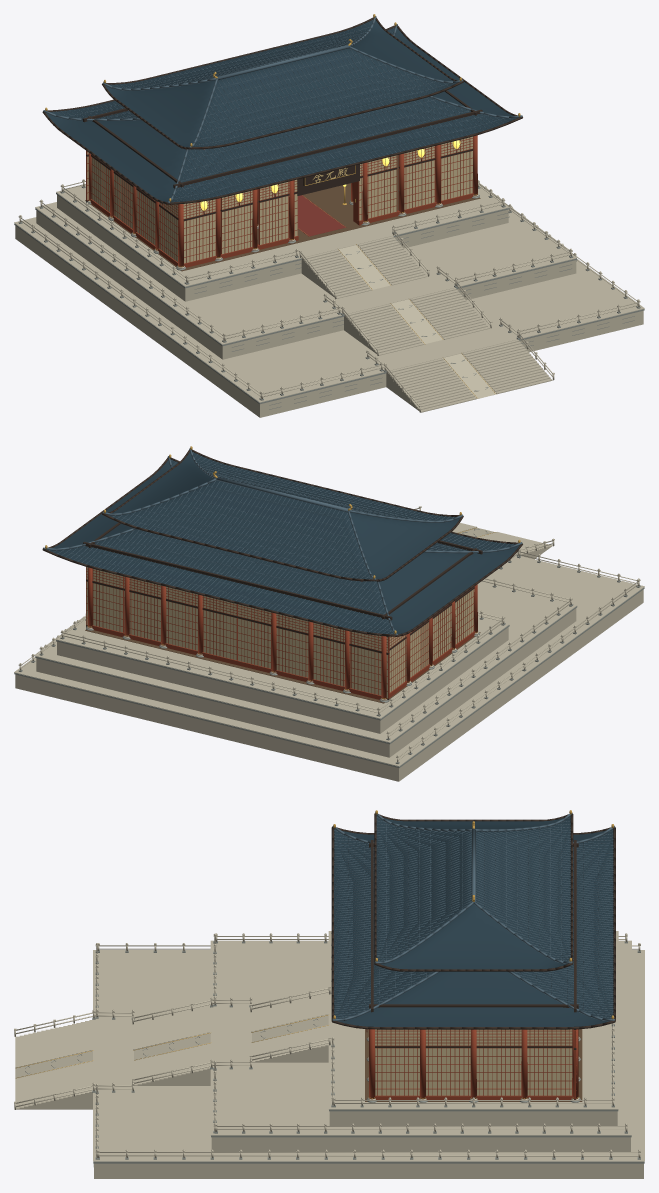
File: palace.glb
3 views of the same model, one above another, from view 1: azimuth 30°, elevation 25°; view 2: azimuth 150°, elevation 25°; view 3: azimuth 270°, elevation 25° (orthographic). The views are drawn at different scales.
Parts seen in each view (by area): view 1: Hanyuan Hall · HIGH · stone, Hanyuan Hall · HIGH · roof, Hanyuan Hall · HIGH · paper, Hanyuan Hall · HIGH · rib, Hanyuan Hall · HIGH · red, Hanyuan Hall · HIGH · wood, Hanyuan Hall · HIGH · edge, Hanyuan Hall · HIGH · floor, Hanyuan Hall · HIGH · silk, Hanyuan Hall · HIGH · gold; view 2: Hanyuan Hall · HIGH · stone, Hanyuan Hall · HIGH · roof, Hanyuan Hall · HIGH · paper, Hanyuan Hall · HIGH · red, Hanyuan Hall · HIGH · rib, Hanyuan Hall · HIGH · wood, Hanyuan Hall · HIGH · edge, Hanyuan Hall · HIGH · floor; view 3: Hanyuan Hall · HIGH · stone, Hanyuan Hall · HIGH · roof, Hanyuan Hall · HIGH · rib, Hanyuan Hall · HIGH · paper, Hanyuan Hall · HIGH · red, Hanyuan Hall · HIGH · wood, Hanyuan Hall · HIGH · edge, Hanyuan Hall · HIGH · floor, Hanyuan Hall · HIGH · gold.
Boxes of the visible parts, box(x1,y1,x2,y2) form: Hanyuan Hall · HIGH · stone: box(14, 179, 644, 417); Hanyuan Hall · HIGH · roof: box(46, 20, 516, 202); Hanyuan Hall · HIGH · paper: box(87, 136, 472, 263); Hanyuan Hall · HIGH · rib: box(43, 16, 522, 203); Hanyuan Hall · HIGH · red: box(86, 135, 477, 267); Hanyuan Hall · HIGH · wood: box(42, 17, 522, 220); Hanyuan Hall · HIGH · edge: box(14, 186, 644, 409); Hanyuan Hall · HIGH · floor: box(85, 155, 480, 271); Hanyuan Hall · HIGH · silk: box(203, 149, 456, 236); Hanyuan Hall · HIGH · gold: box(45, 14, 520, 398); Hanyuan Hall · HIGH · stone: box(14, 506, 644, 781); Hanyuan Hall · HIGH · roof: box(48, 452, 519, 634); Hanyuan Hall · HIGH · paper: box(86, 567, 474, 698); Hanyuan Hall · HIGH · red: box(86, 567, 477, 699); Hanyuan Hall · HIGH · rib: box(43, 448, 522, 635); Hanyuan Hall · HIGH · wood: box(42, 449, 522, 700); Hanyuan Hall · HIGH · edge: box(14, 529, 644, 767); Hanyuan Hall · HIGH · floor: box(85, 629, 480, 703); Hanyuan Hall · HIGH · stone: box(14, 931, 644, 1178); Hanyuan Hall · HIGH · roof: box(334, 816, 613, 1026); Hanyuan Hall · HIGH · rib: box(332, 813, 614, 1021); Hanyuan Hall · HIGH · paper: box(375, 1029, 572, 1095); Hanyuan Hall · HIGH · red: box(369, 1029, 578, 1099); Hanyuan Hall · HIGH · wood: box(331, 813, 615, 1099); Hanyuan Hall · HIGH · edge: box(25, 932, 644, 1166); Hanyuan Hall · HIGH · floor: box(365, 1029, 582, 1101); Hanyuan Hall · HIGH · gold: box(15, 810, 614, 1098).
Bounding box in the file's own units: 76.3 × 36.33 × 96.35.
